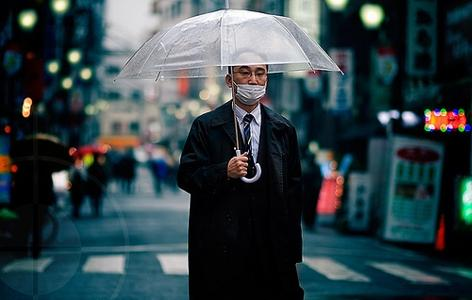person: (177, 48, 306, 300)
